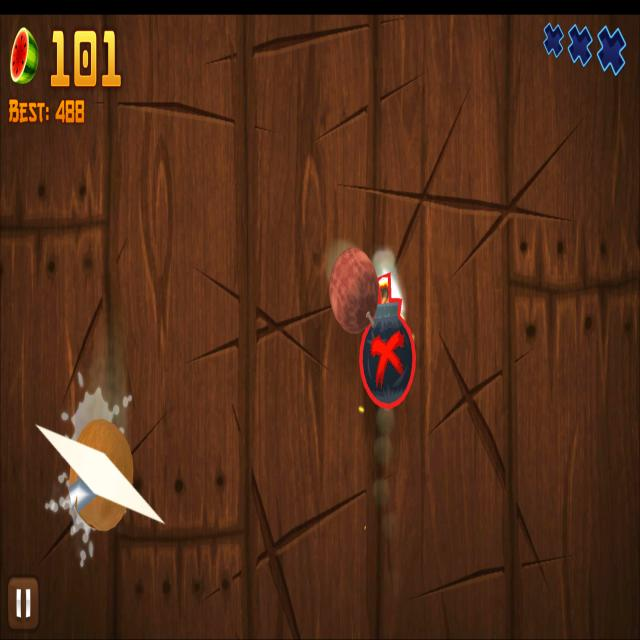bomb: (357, 270, 418, 412)
fruit: (72, 418, 134, 531), (328, 247, 379, 336)
